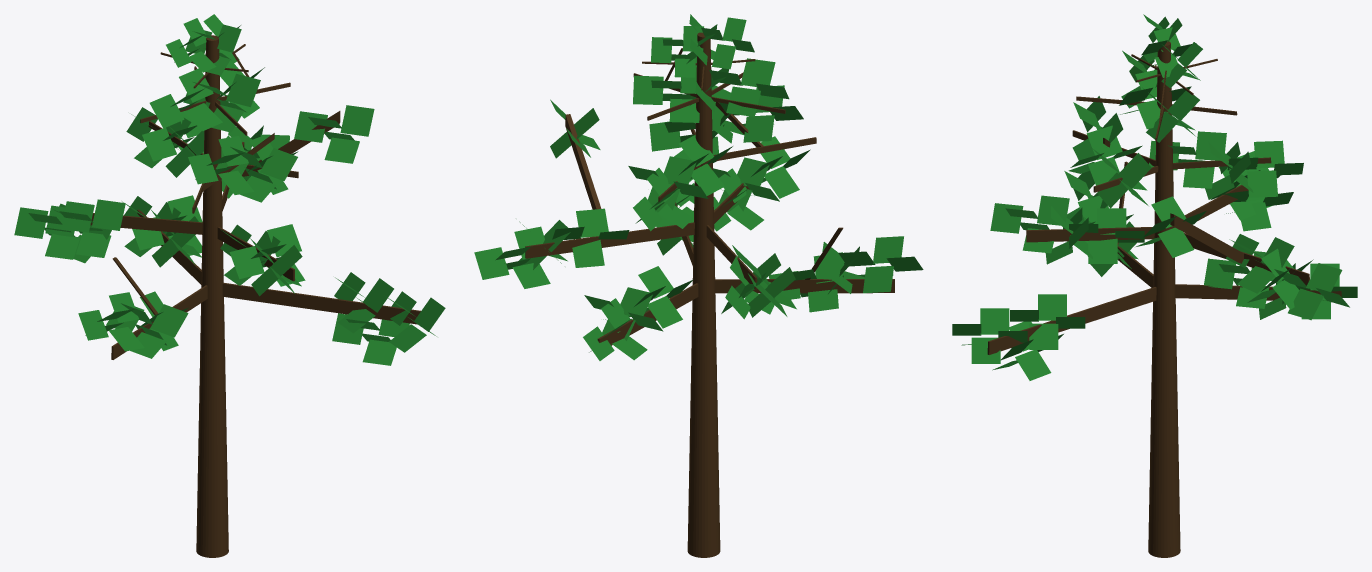
Rendered from tree_2.fbx.
3 views of the same model, side by side, from view 1: azimuth 30°, elevation 25°; view 2: azimuth 150°, elevation 25°; view 3: azimuth 270°, elevation 25° (orthographic).
Parts seen in each view (by area): view 1: Cylinder, Plane.018, Plane.033, Plane.133, Plane.057, Plane.103, Plane.118, Plane.087, Plane.027, Plane.028, Plane.017, Plane.137 (+14 smaller); view 2: Cylinder, Plane.067, Plane.127, Plane.135, Plane.075, Plane.106, Plane.121, Plane.136, Plane.076, Plane.112, Plane.105, Plane.085 (+10 smaller); view 3: Cylinder, Plane.081, Plane.005, Plane.093, Plane.062, Plane.011, Plane.047, Plane.010, Plane.051, Plane.063, Plane.066, Plane.065 (+13 smaller).
Boxes of the visible parts, bbox=[...] form: Cylinder: bbox=[90, 35, 420, 557]; Plane.018: bbox=[340, 105, 374, 136]; Plane.033: bbox=[92, 199, 125, 230]; Plane.133: bbox=[226, 73, 260, 107]; Plane.057: bbox=[229, 246, 264, 279]; Plane.103: bbox=[150, 304, 188, 337]; Plane.118: bbox=[260, 148, 297, 180]; Plane.087: bbox=[142, 127, 176, 161]; Plane.027: bbox=[14, 207, 48, 238]; Plane.028: bbox=[61, 201, 94, 232]; Plane.017: bbox=[294, 111, 327, 142]; Plane.137: bbox=[149, 94, 184, 128]; Cylinder: bbox=[525, 32, 894, 557]; Plane.067: bbox=[474, 247, 509, 279]; Plane.127: bbox=[633, 75, 663, 104]; Plane.135: bbox=[740, 58, 775, 86]; Plane.075: bbox=[576, 208, 608, 237]; Plane.106: bbox=[863, 266, 893, 293]; Plane.121: bbox=[743, 115, 774, 142]; Plane.136: bbox=[726, 86, 760, 116]; Plane.076: bbox=[572, 240, 604, 267]; Plane.112: bbox=[649, 121, 681, 151]; Plane.105: bbox=[873, 236, 903, 263]; Plane.085: bbox=[663, 156, 696, 184]; Cylinder: bbox=[987, 41, 1341, 557]; Plane.081: bbox=[1247, 170, 1277, 197]; Plane.005: bbox=[980, 308, 1009, 334]; Plane.093: bbox=[1195, 131, 1226, 160]; Plane.062: bbox=[990, 203, 1023, 233]; Plane.011: bbox=[1029, 323, 1058, 349]; Plane.047: bbox=[1204, 258, 1235, 289]; Plane.010: bbox=[1038, 294, 1066, 320]; Plane.051: bbox=[1088, 238, 1117, 263]; Plane.063: bbox=[1037, 195, 1069, 225]; Plane.066: bbox=[1288, 288, 1323, 320]; Plane.065: bbox=[1306, 263, 1342, 291].
Bounding box in the file's own units: 9569 × 14667 × 10313.
